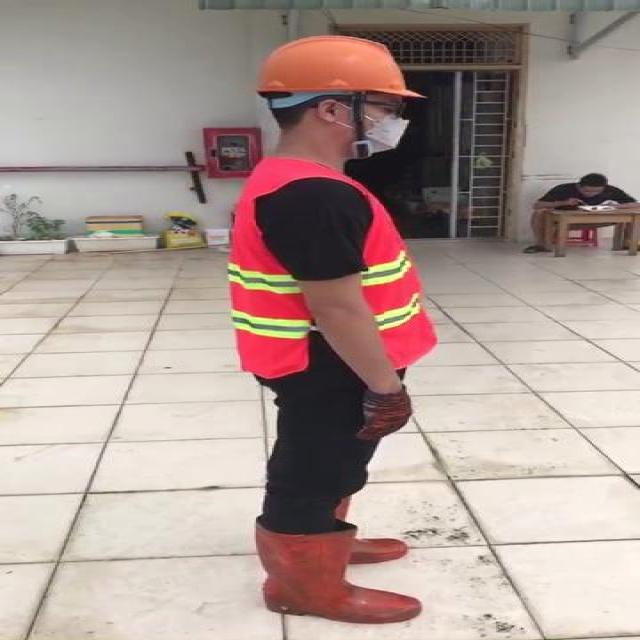boots: (253, 518, 423, 625), (334, 494, 411, 563)
face_mask: (326, 96, 414, 155)
hand_glove: (354, 391, 412, 441)
head_helmet: (253, 30, 427, 100)
person: (210, 30, 464, 640)
vest: (229, 160, 434, 379)
